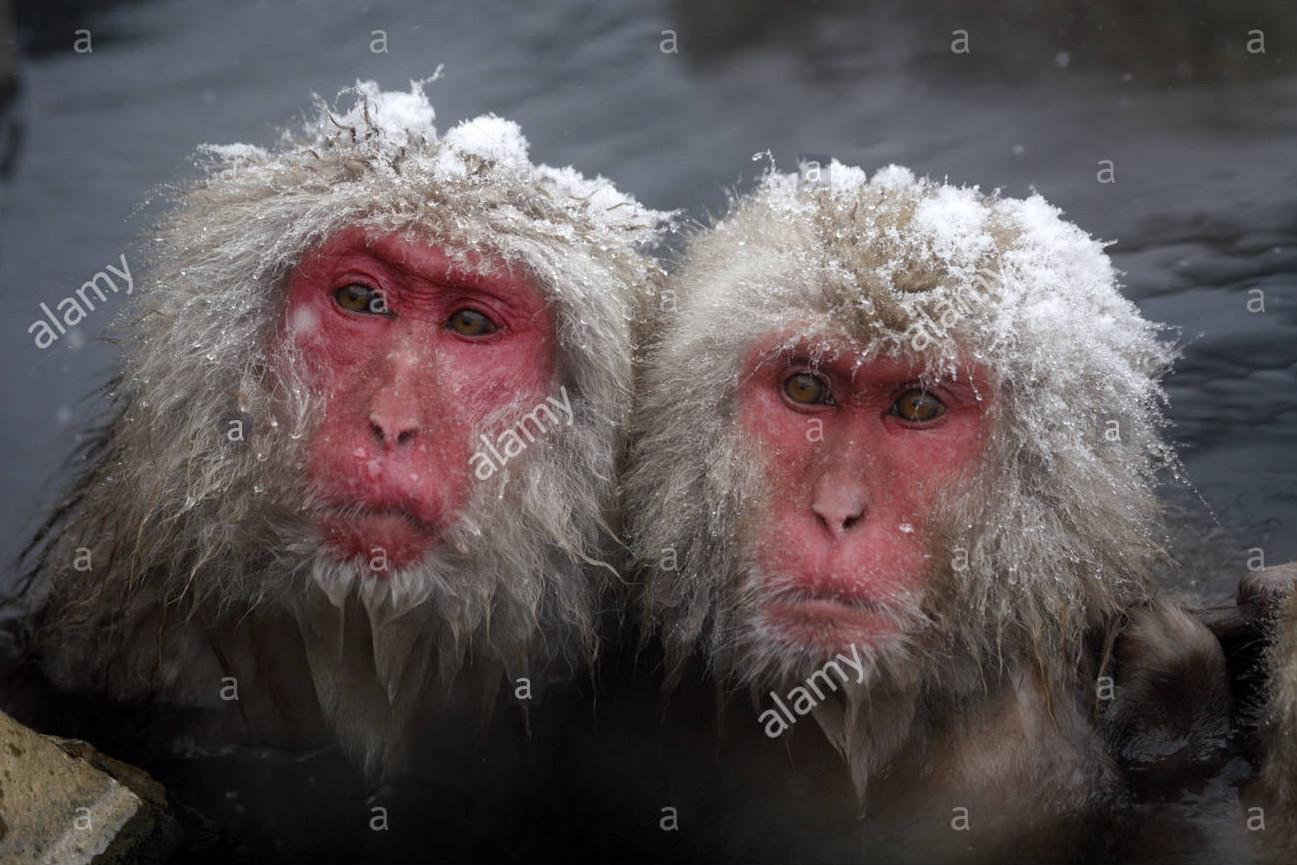monkey: (14, 87, 1286, 865)
